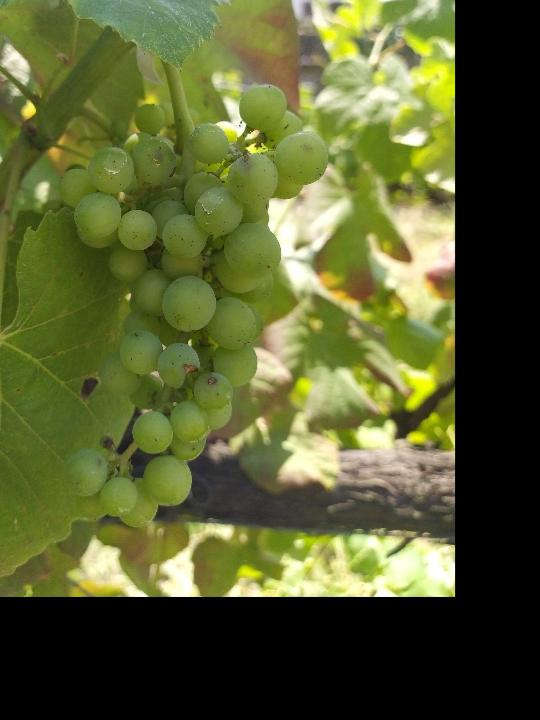grape: (54, 82, 331, 528)
